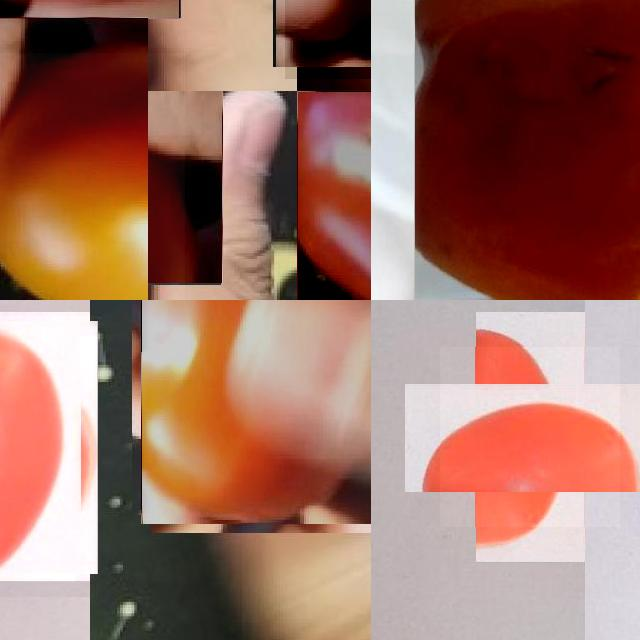0: (0, 53, 185, 300), (297, 91, 371, 300)
Fresh Tomato: (141, 300, 371, 524), (440, 348, 620, 528), (0, 316, 94, 578)
Rotten Tomato: (414, 0, 640, 300)
